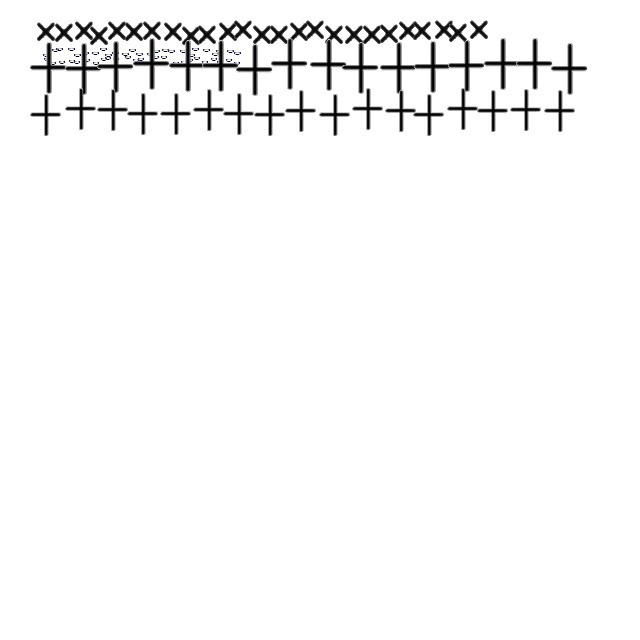chain: (42, 52, 52, 58), (104, 52, 114, 58), (128, 47, 138, 53), (146, 51, 156, 57), (152, 48, 162, 54), (202, 47, 212, 53), (226, 48, 236, 54), (52, 47, 60, 53), (56, 46, 64, 52), (68, 46, 76, 52), (74, 52, 82, 58), (82, 50, 90, 56), (92, 50, 100, 56), (100, 46, 108, 52), (112, 50, 120, 56), (122, 51, 130, 57), (136, 51, 144, 57), (162, 47, 170, 53), (168, 48, 176, 54), (180, 48, 188, 54), (188, 52, 196, 58), (192, 46, 200, 52), (212, 51, 220, 57), (216, 48, 224, 54), (234, 50, 242, 56), (43, 56, 51, 62), (49, 60, 57, 66), (58, 59, 66, 65), (68, 58, 76, 64), (73, 59, 81, 65), (83, 57, 91, 63), (92, 60, 100, 66), (100, 56, 108, 62), (104, 55, 112, 61), (112, 56, 120, 62), (124, 54, 132, 60), (132, 57, 140, 63), (137, 56, 145, 62), (145, 60, 153, 66), (152, 54, 160, 60), (160, 54, 168, 60), (172, 60, 180, 66), (180, 59, 188, 65), (186, 57, 194, 63), (193, 55, 201, 61), (201, 59, 209, 65), (210, 56, 218, 62), (216, 59, 224, 65), (225, 57, 233, 63), (233, 60, 241, 66)
double: (130, 38, 172, 92), (166, 40, 208, 94), (268, 38, 310, 92), (62, 44, 104, 96), (94, 42, 136, 94), (548, 44, 590, 96), (28, 42, 68, 96), (200, 40, 240, 94), (234, 44, 274, 98), (340, 42, 380, 96), (378, 42, 418, 96), (446, 40, 486, 94), (482, 38, 522, 92), (514, 38, 554, 92), (308, 40, 348, 92), (412, 42, 452, 94), (28, 94, 62, 138), (63, 88, 97, 132), (252, 94, 286, 138), (283, 90, 317, 134), (317, 94, 351, 138), (350, 88, 384, 132), (383, 90, 417, 134), (411, 94, 445, 138), (445, 88, 479, 132), (475, 90, 509, 134), (542, 90, 576, 134), (95, 90, 129, 132), (125, 94, 159, 136), (158, 94, 192, 136), (191, 90, 225, 132), (221, 94, 255, 136), (508, 90, 542, 132), (35, 19, 57, 43), (53, 20, 75, 44), (73, 18, 95, 42), (88, 23, 110, 47), (106, 18, 128, 42), (123, 19, 145, 43), (141, 18, 163, 42), (162, 19, 184, 43), (180, 23, 202, 47), (196, 22, 218, 46), (217, 19, 239, 43), (232, 17, 254, 41), (251, 22, 273, 46), (268, 22, 290, 46), (288, 19, 310, 43), (304, 17, 326, 41), (323, 22, 345, 46), (343, 22, 365, 46), (361, 22, 383, 46), (378, 21, 400, 45), (397, 18, 419, 42), (411, 18, 433, 42), (433, 17, 455, 41), (447, 20, 469, 44), (468, 17, 490, 41)
